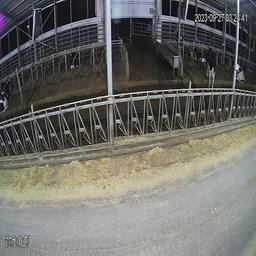cow: (203, 45, 219, 88), (1, 75, 14, 114), (64, 46, 81, 74), (235, 55, 247, 85), (175, 30, 185, 56)
